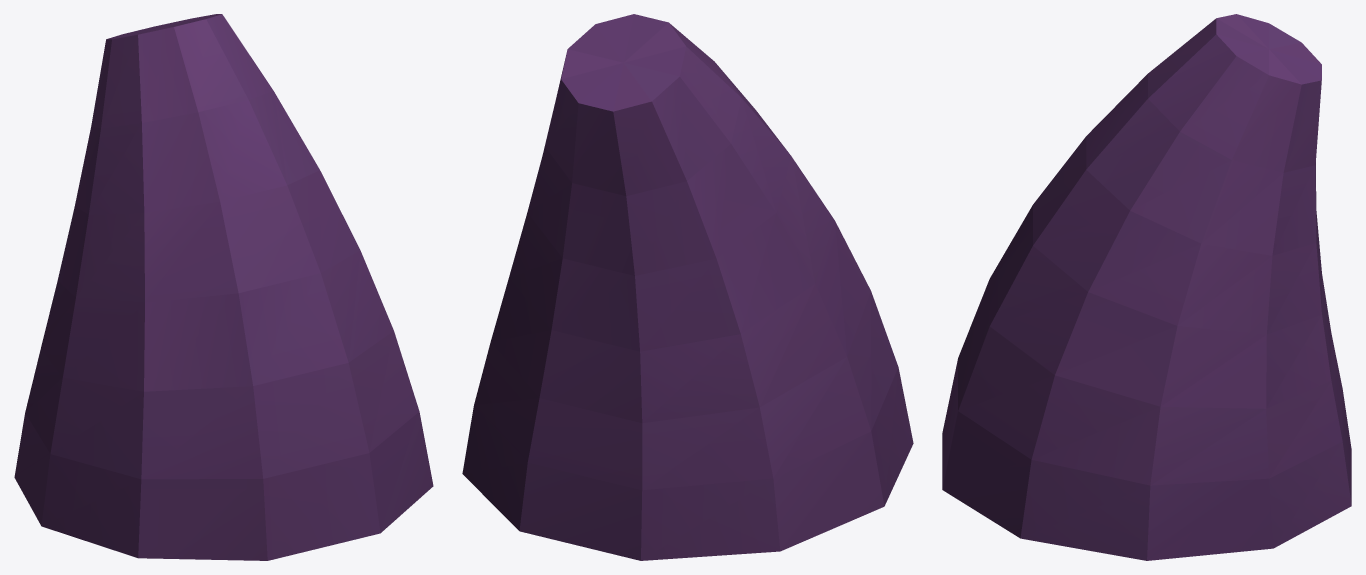
File: gear_hood.glb
3 views of the same model, side by side, from view 1: azimuth 30°, elevation 25°; view 2: azimuth 150°, elevation 25°; view 3: azimuth 270°, elevation 25° (orthographic). The views are drawn at different scales.
Visible parts, largest first — view 1: gear_hood_solid; view 2: gear_hood_solid; view 3: gear_hood_solid.
Part boxes in pixels (x1=…): gear_hood_solid: x1=14, y1=14, x2=433, y2=560; gear_hood_solid: x1=462, y1=14, x2=913, y2=560; gear_hood_solid: x1=942, y1=14, x2=1351, y2=560.
Bounding box in the file's own units: 0.8821 × 1.02 × 0.8381.
